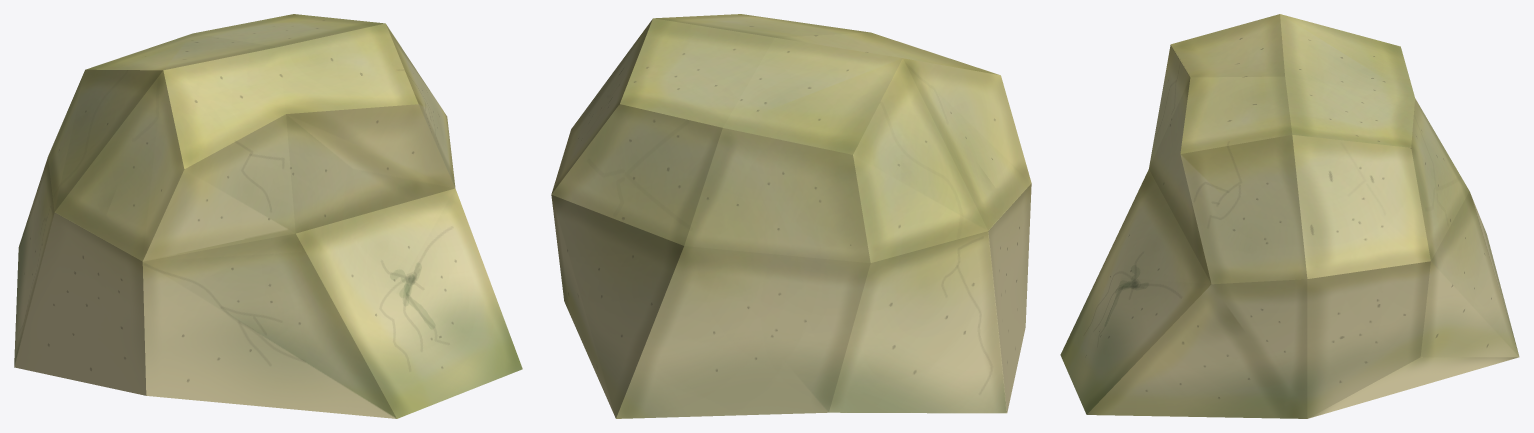
File: Pebble-1.fbx
3 renders of one model, left to right at view 1: azimuth 30°, elevation 25°; view 2: azimuth 150°, elevation 25°; view 3: azimuth 270°, elevation 25°, orthographic. The views are drawn at different scales.
Parts seen in each view (by area): view 1: Pebble-1; view 2: Pebble-1; view 3: Pebble-1.
Part boxes in pixels (<box>): Pebble-1: <box>14,14,522,418</box>; Pebble-1: <box>551,14,1031,418</box>; Pebble-1: <box>1060,14,1519,418</box>.
Bounding box in the file's own units: 305 × 203 × 298.
1 material, 1 textured.
